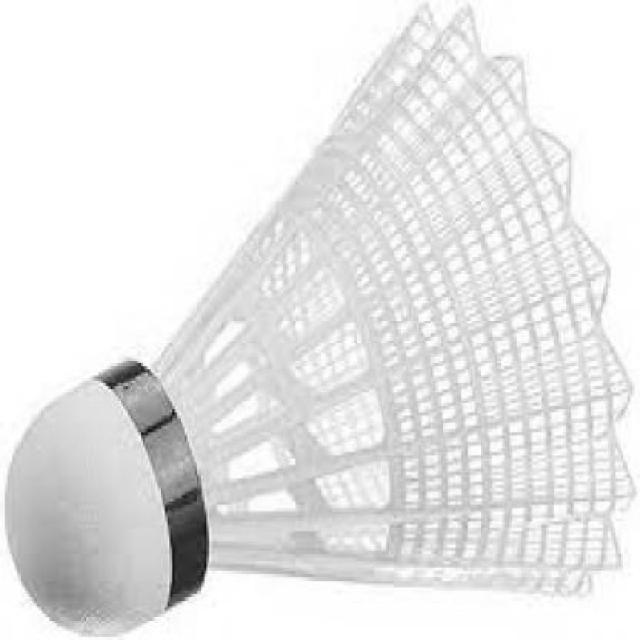Shuttlecock: (7, 2, 636, 636)
